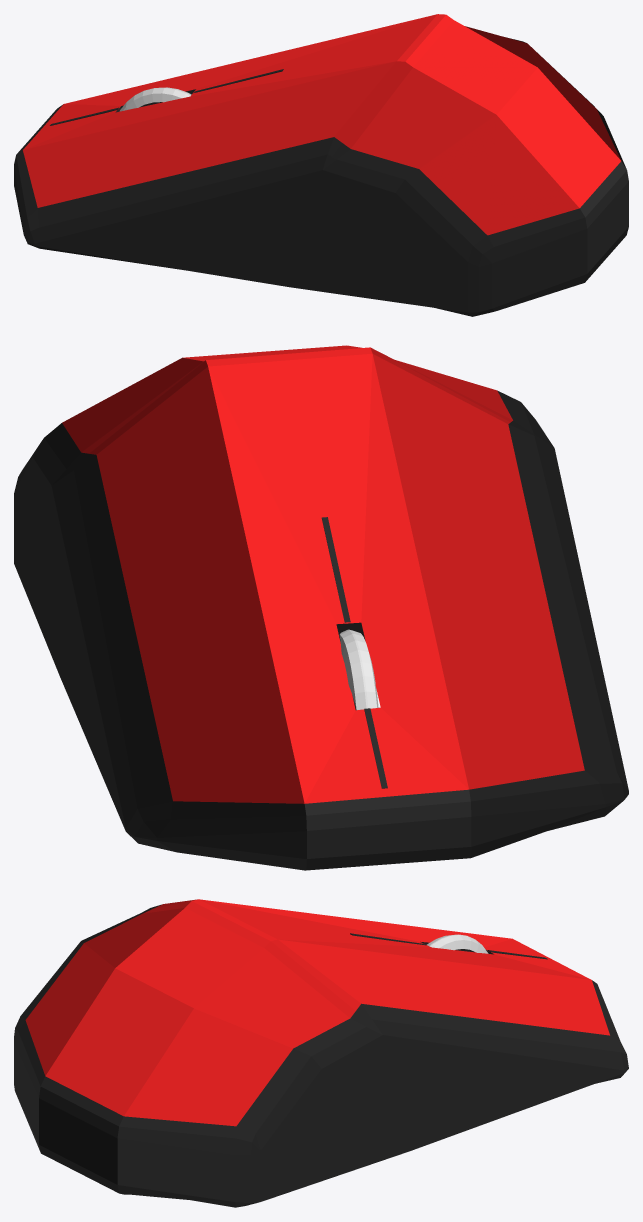
The model's file is mouse.glb.
3 renders of one model, top to bottom at view 1: azimuth 30°, elevation 25°; view 2: azimuth 150°, elevation 25°; view 3: azimuth 270°, elevation 25°, orthographic. The views are drawn at different scales.
Visible parts, largest first — view 1: Box20179, Cylinder001; view 2: Box20179, Cylinder001, Box20181; view 3: Box20179, Cylinder001.
Part boxes in pixels (<box>): Box20179: <box>14,14,628,316</box>; Cylinder001: <box>119,87,191,111</box>; Box20179: <box>14,345,628,870</box>; Cylinder001: <box>339,629,378,709</box>; Box20181: <box>321,517,350,622</box>; Box20179: <box>14,899,628,1207</box>; Cylinder001: <box>427,934,488,953</box>.
Size of the model in its own units: 383 by 143 by 393.
